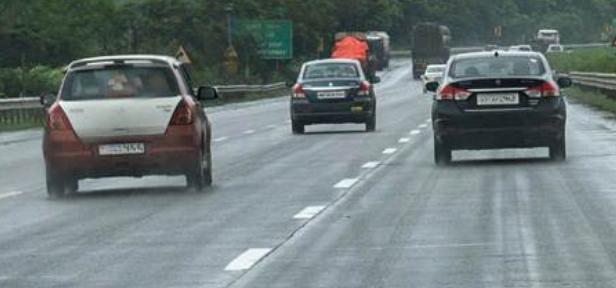car: (30, 45, 227, 203), (430, 47, 583, 176), (285, 51, 381, 135)
